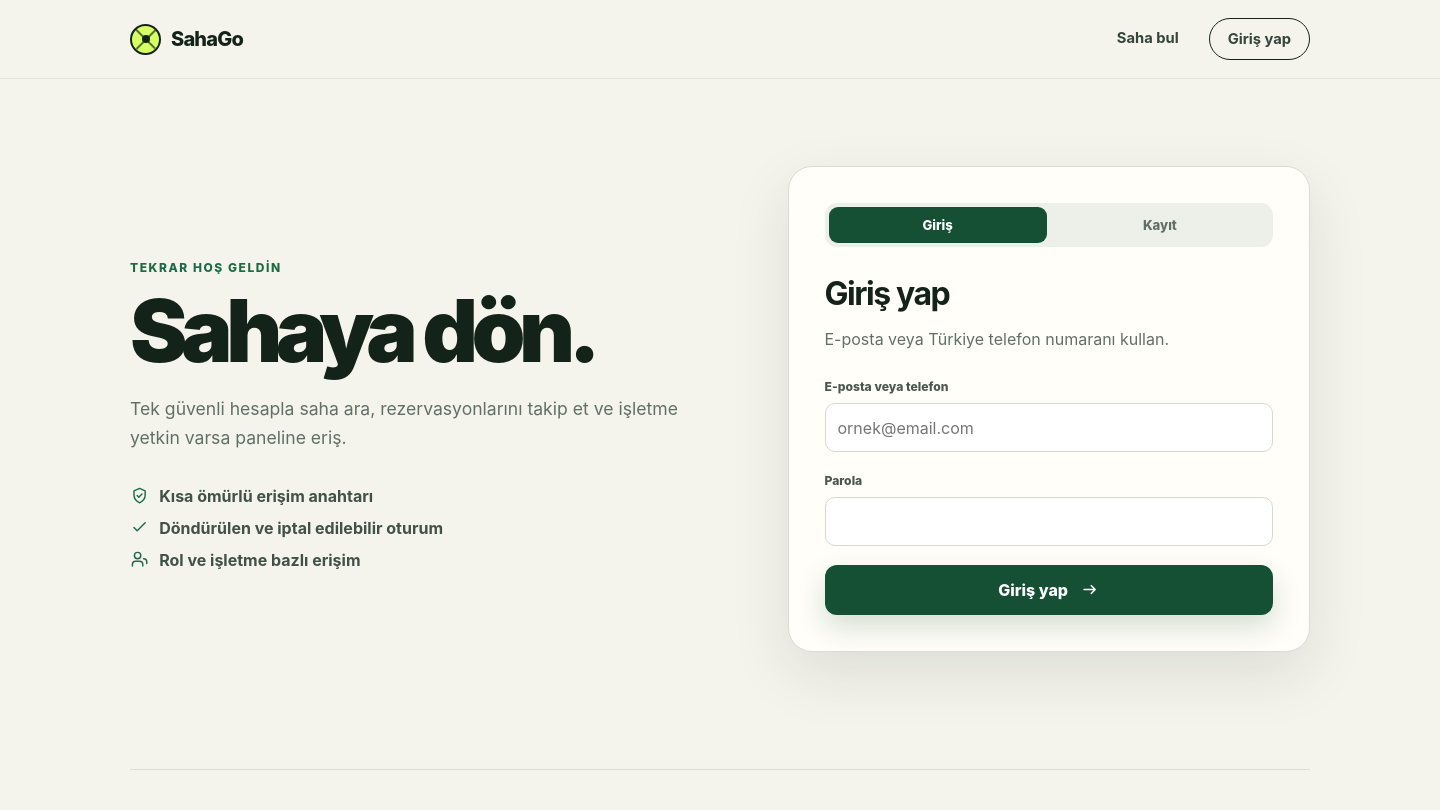
frontend routes › shows the API problem when login credentials are rejected
Expected: the heading "Giriş yap" is shown, [824,274,949,313]
Type "oyuncu@example.com" into the field labelled "E-posta veya telefon" at (1049, 428), box [824,403,1273,452]
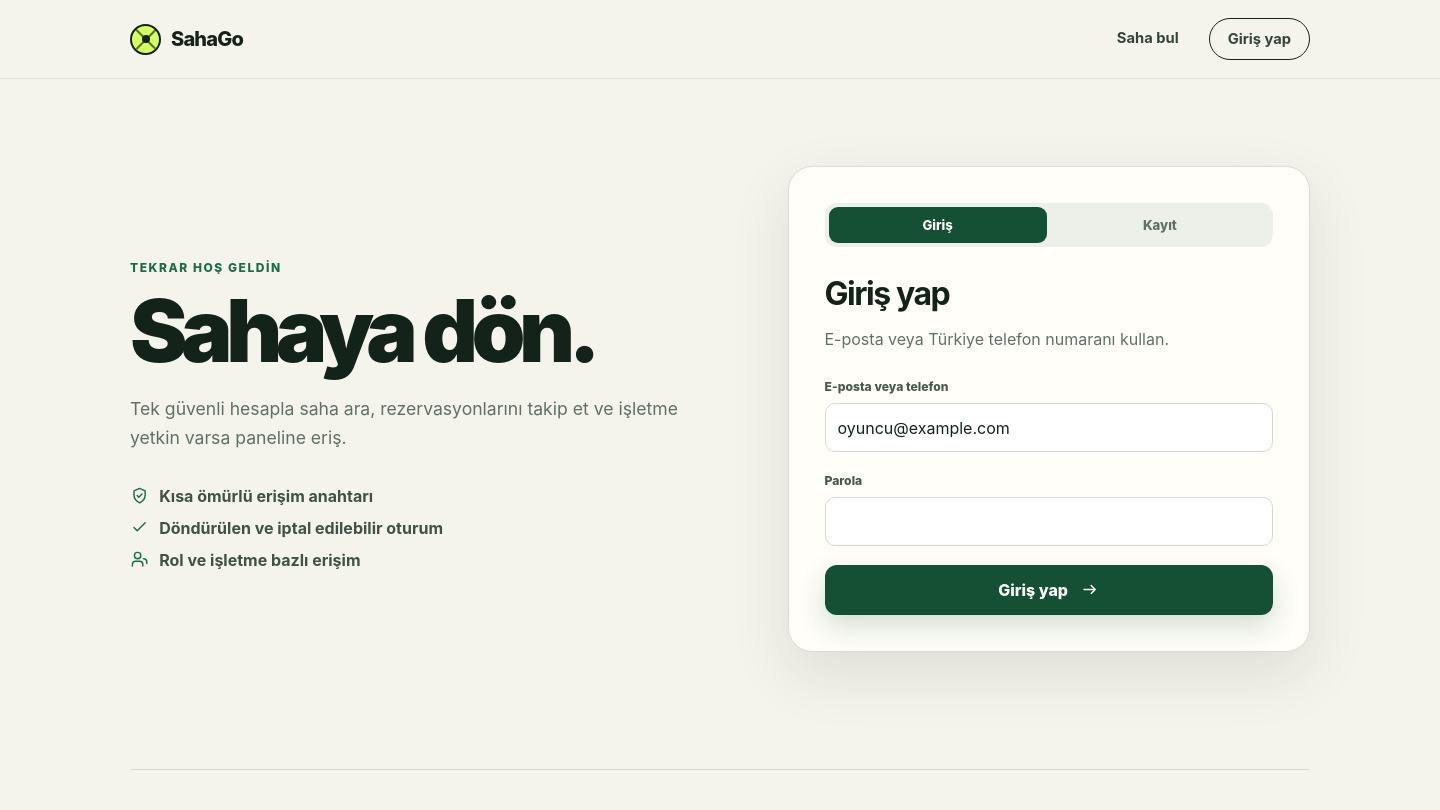
Type "Yanlis12345" into the password field labelled "Parola" at (1049, 522), box [824,497,1273,546]
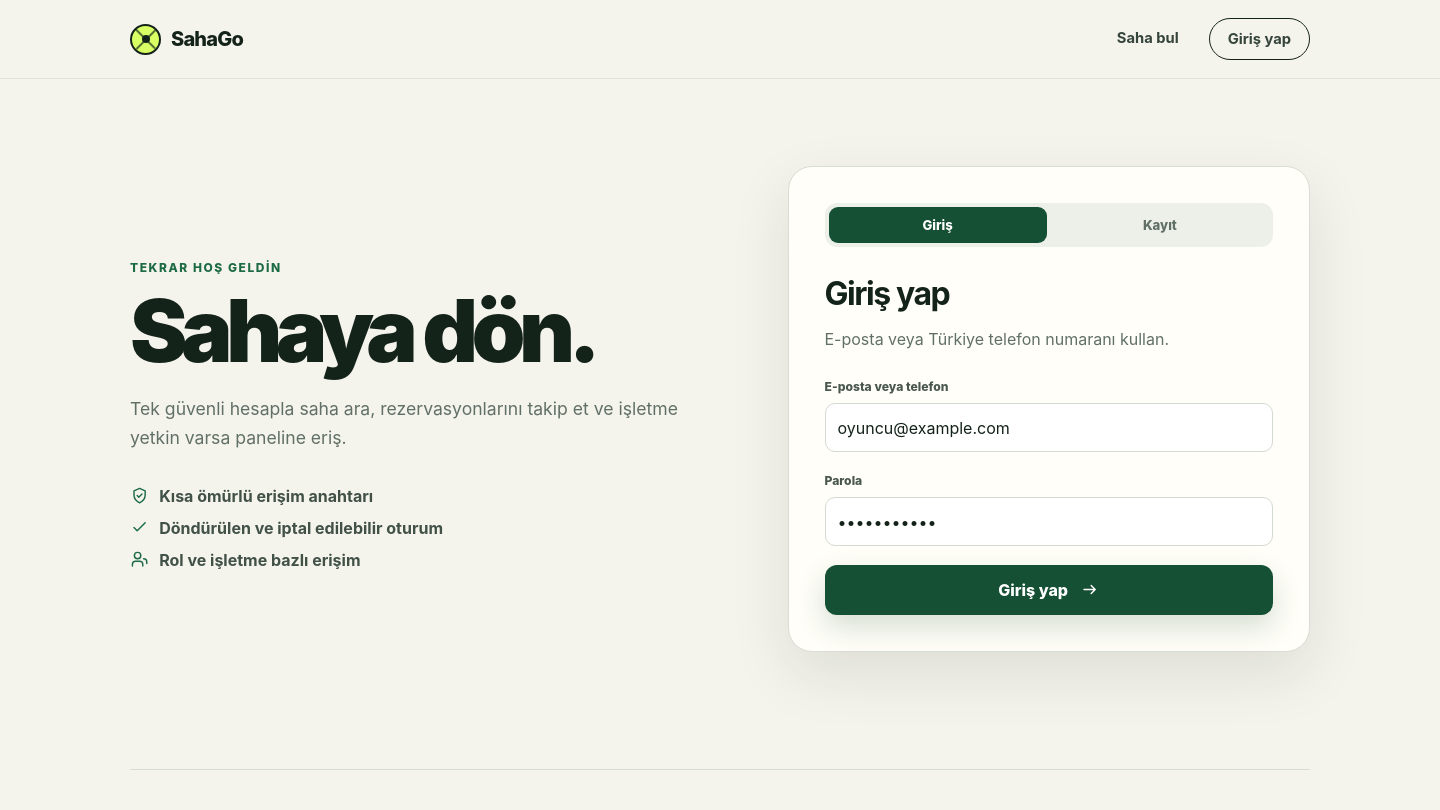
Click the button "Giriş yap" at (1049, 590), box [824,565,1273,615]
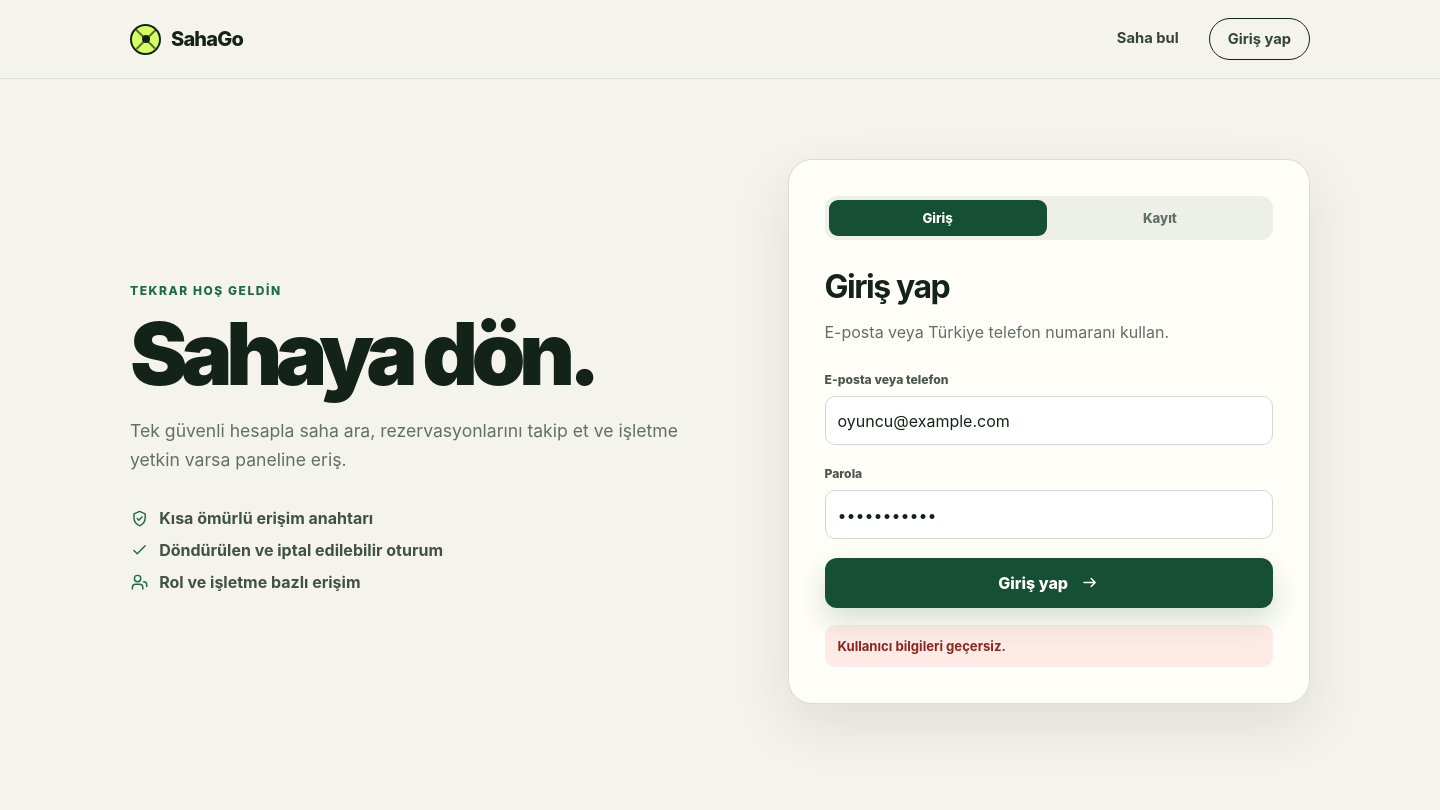
Expected: the message reads "Kullanıcı bilgileri geçersiz.", [838,638,1006,654]
